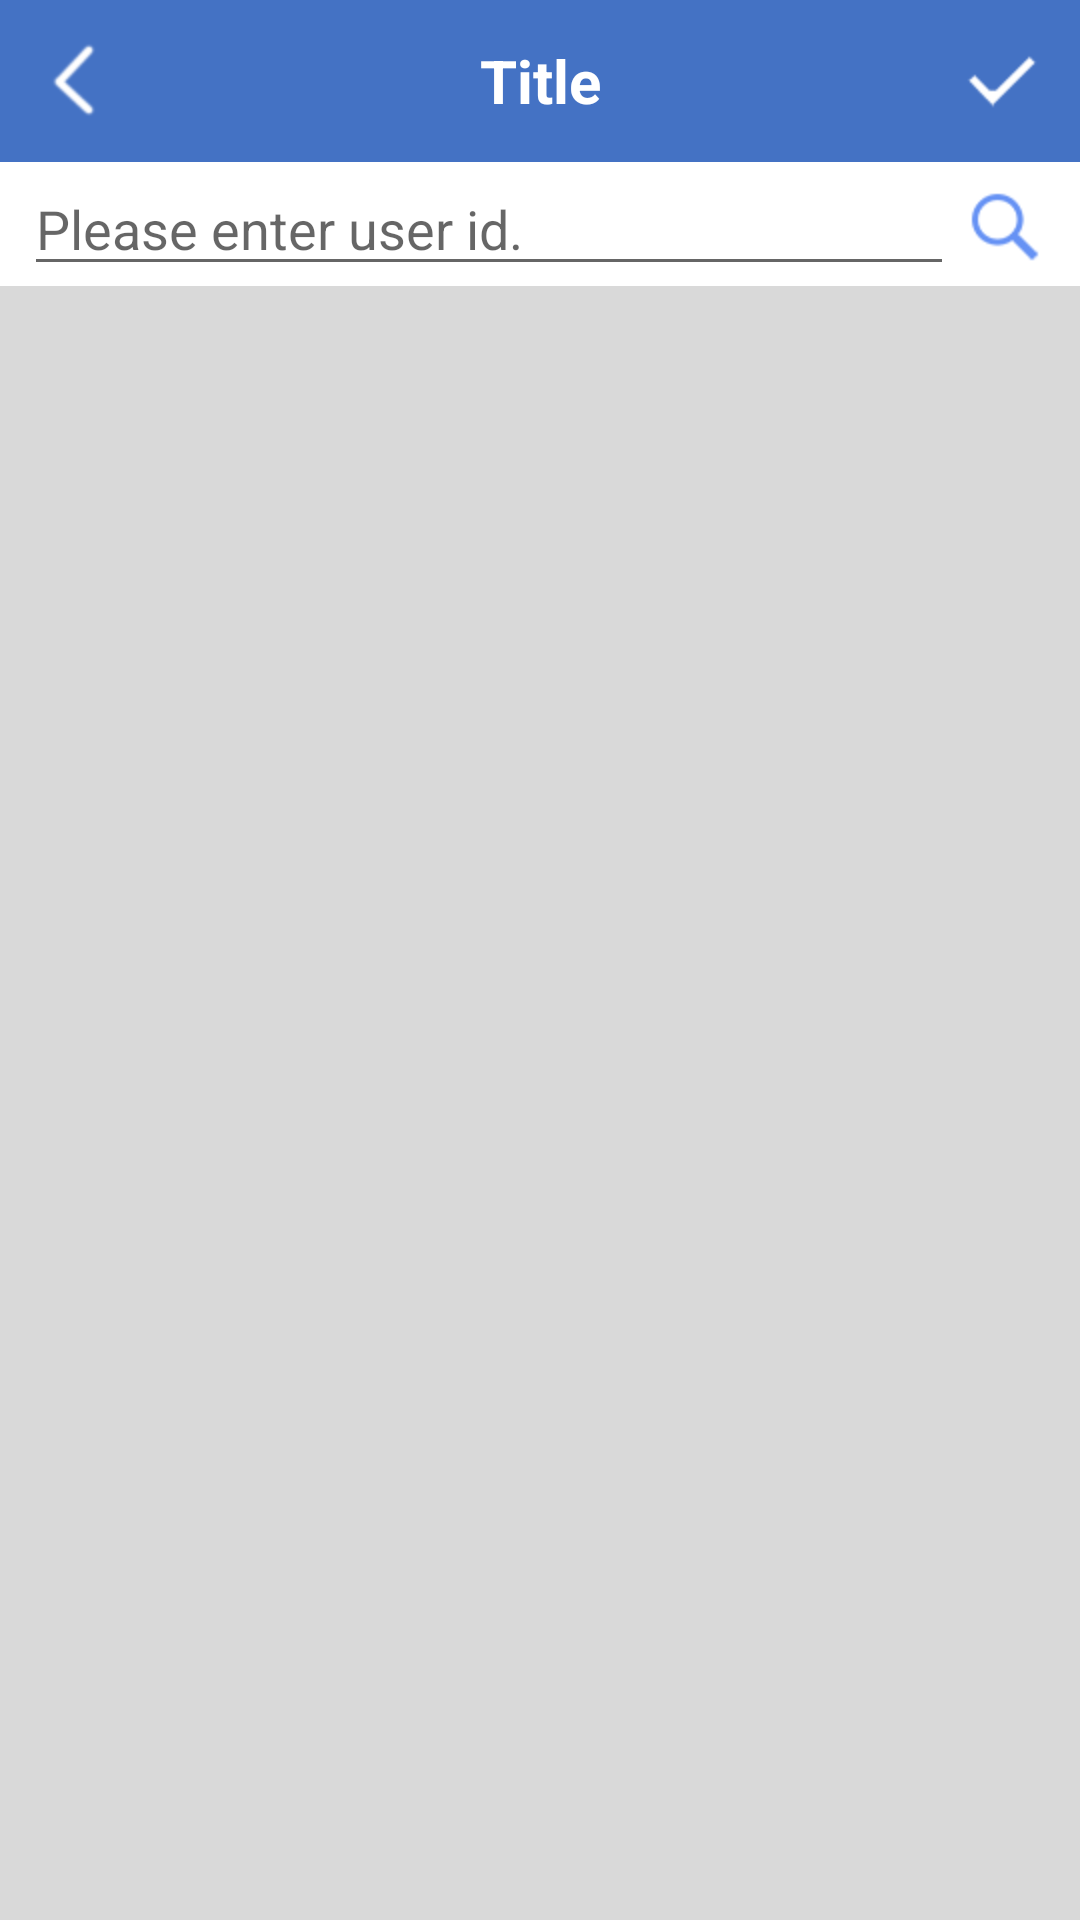

Where icons sit on this 1080 × 1920 app screen, as (x1, y1, x2, y2):
backbtn: (54, 45, 94, 115)
checkmark: (969, 56, 1035, 107)
search: (971, 193, 1038, 260)
